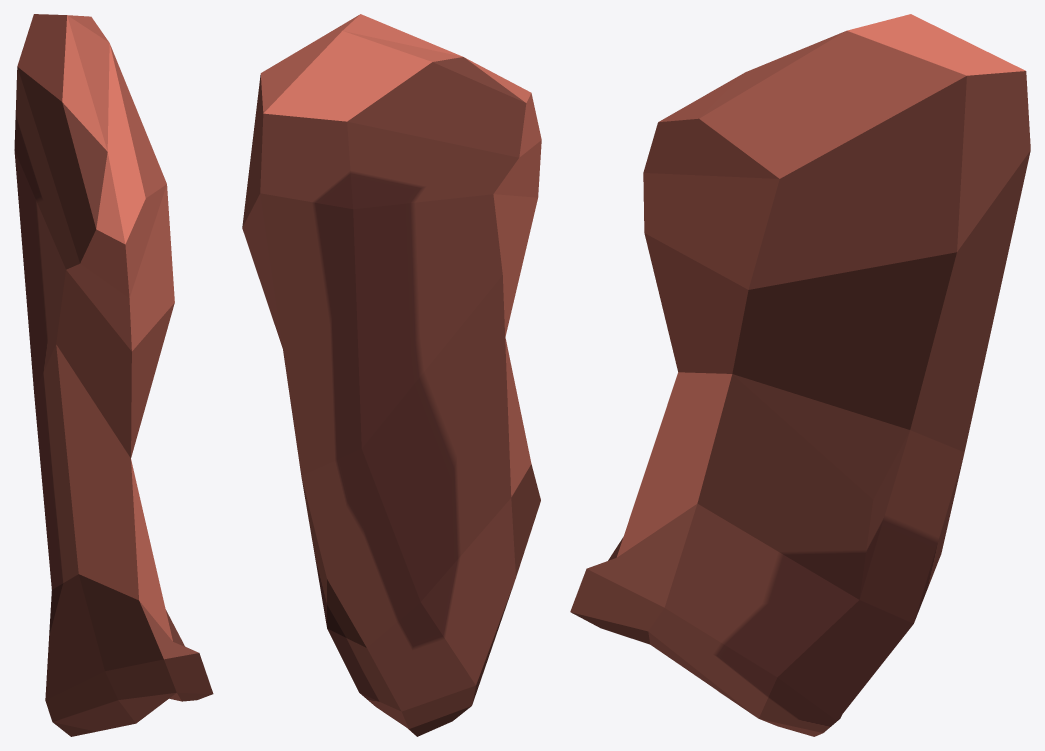
The model's file is SM_Item_Meat_03.fbx.
The picture shows the model from 3 angles, left to right: view 1: azimuth 30°, elevation 25°; view 2: azimuth 150°, elevation 25°; view 3: azimuth 270°, elevation 25°; orthographic projection. The views are drawn at different scales.
Visible parts, largest first — view 1: SM_Item_Meat_03; view 2: SM_Item_Meat_03; view 3: SM_Item_Meat_03.
Boxes of the visible parts, <box> form: SM_Item_Meat_03: <box>14,14,213,736</box>; SM_Item_Meat_03: <box>242,14,541,736</box>; SM_Item_Meat_03: <box>570,14,1030,736</box>.
Size of the model in its own units: 18.6 by 79.44 by 45.2.
